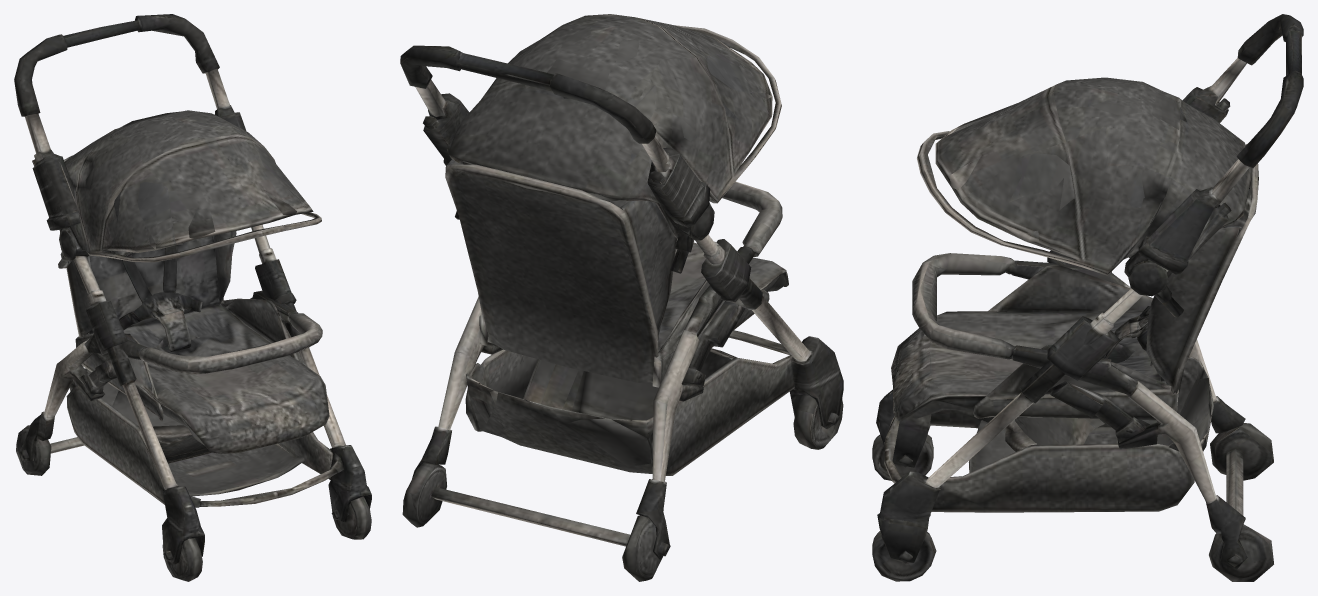
Rendered from p7-baby-stroller-t25.glb.
The picture shows the model from 3 angles, left to right: view 1: azimuth 30°, elevation 25°; view 2: azimuth 150°, elevation 25°; view 3: azimuth 270°, elevation 25°; orthographic projection. The views are drawn at different scales.
Parts seen in each view (by area): view 1: p7-baby-stroller-t25; view 2: p7-baby-stroller-t25; view 3: p7-baby-stroller-t25.
Part boxes in pixels (left/top/right/bottom): p7-baby-stroller-t25: left=14, top=14, right=371, bottom=581; p7-baby-stroller-t25: left=400, top=14, right=843, bottom=581; p7-baby-stroller-t25: left=872, top=14, right=1303, bottom=581.
Size of the model in its own units: 0.55 by 1.05 by 0.85.
1 material, 1 textured.
